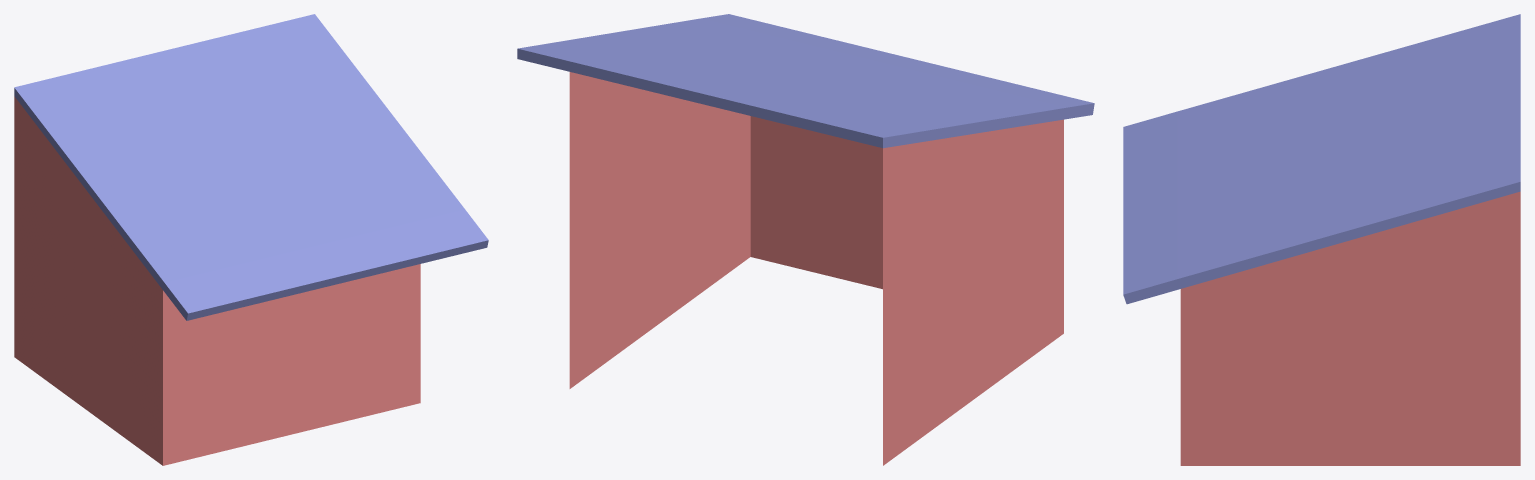
File: CornerSlantRoof-R.FBX
3 views of the same model, side by side, from view 1: azimuth 30°, elevation 25°; view 2: azimuth 150°, elevation 25°; view 3: azimuth 270°, elevation 25° (orthographic). The views are drawn at different scales.
Visible parts, largest first — view 1: Object075; view 2: Object075; view 3: Object075.
Boxes of the visible parts, x1,y1,x2,y2 form: Object075: (14, 14, 488, 465); Object075: (517, 14, 1094, 465); Object075: (1123, 14, 1520, 465).
Bounding box in the file's own units: 350 × 300 × 351.
